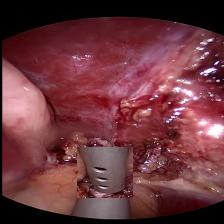Irrigator: (76, 147, 132, 198)
